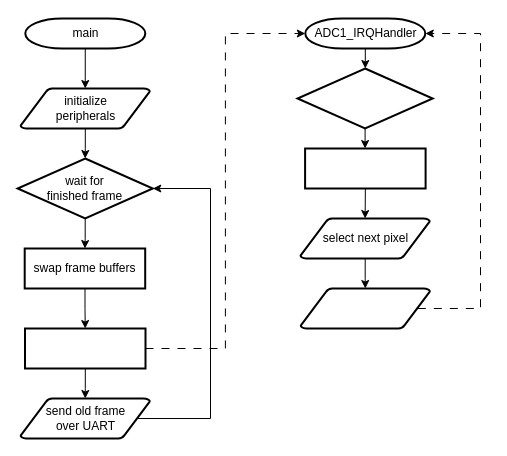
Image size: 507x456. Some labels were removed from this diagram. The centre of each missing label's shape, as x and y in pixels:
"if frame is not done" belongs at point 364,98.
"save ADC value to frame buffer" belongs at point 365,168.
"start ADC conversion" belongs at point 365,308.
"start frame capture" belongs at point 85,348.
